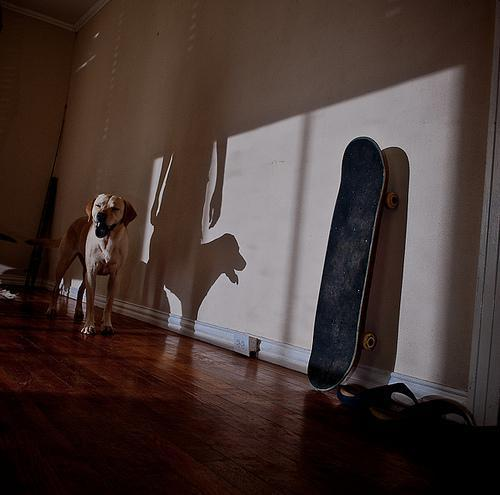dog: (46, 193, 136, 336)
skateboard: (305, 137, 396, 388)
